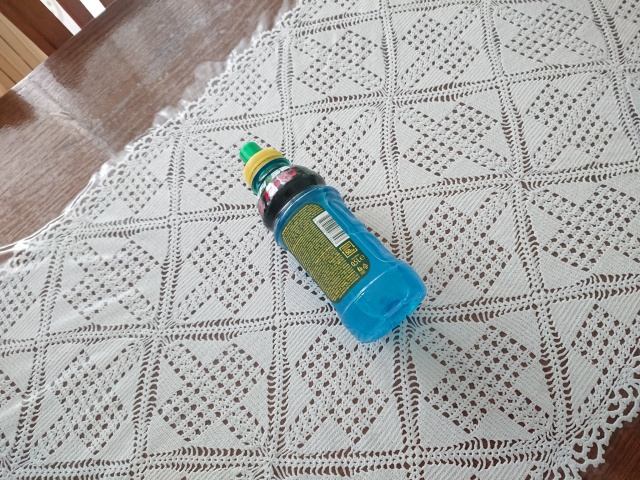Vindi Iso Sport Forest Strawberries 500mL: (237, 139, 430, 344)
